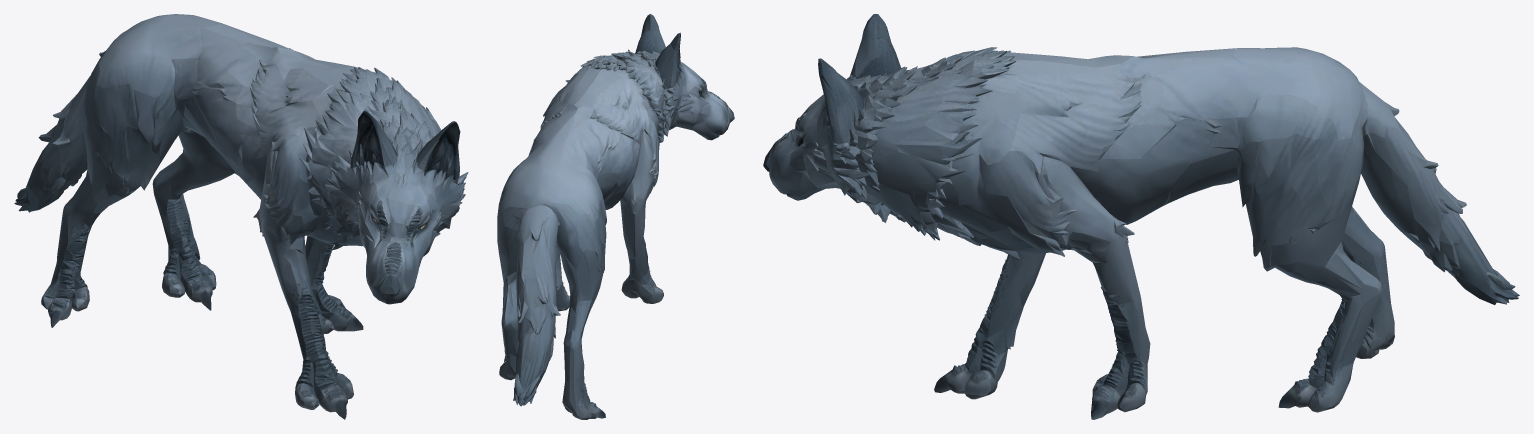
Rendered from lothwolf.glb.
3 renders of one model, left to right at view 1: azimuth 30°, elevation 25°; view 2: azimuth 150°, elevation 25°; view 3: azimuth 270°, elevation 25°, orthographic. The views are drawn at different scales.
Parts seen in each view (by area): view 1: lothwolf-centred; view 2: lothwolf-centred; view 3: lothwolf-centred.
Part boxes in pixels (bbox=[...]): lothwolf-centred: bbox=[14, 14, 468, 419]; lothwolf-centred: bbox=[497, 14, 734, 419]; lothwolf-centred: bbox=[763, 14, 1519, 419].
Size of the model in its own units: 1.63 by 2.4 by 4.22.
1 material, 1 textured.
